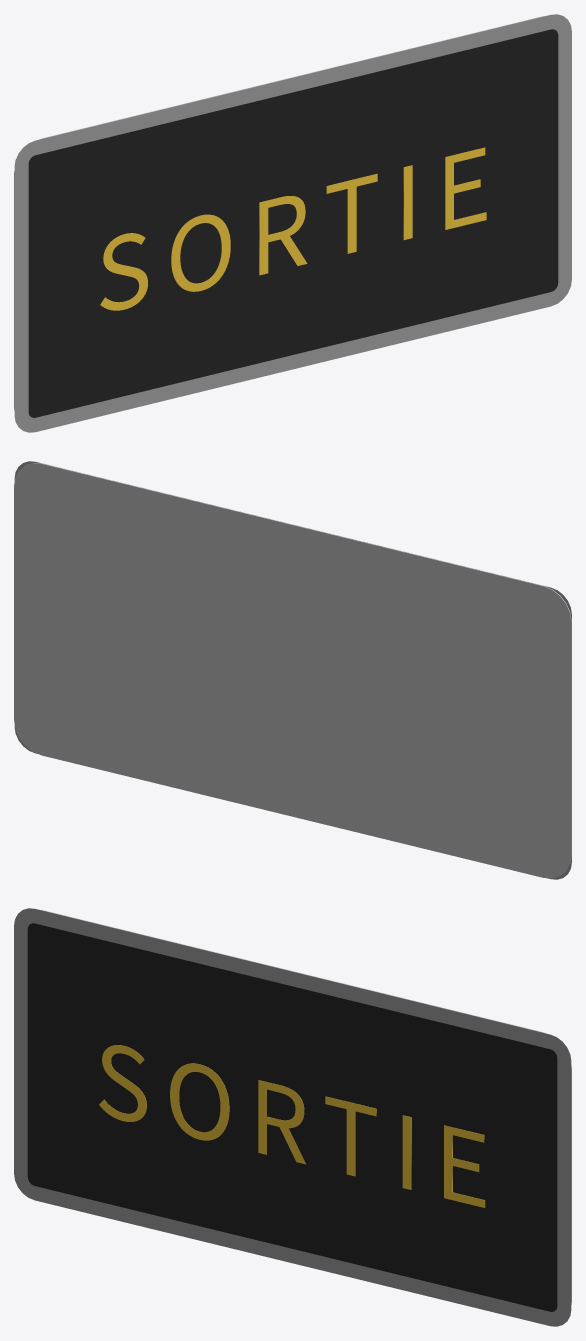
Rendered from CAR_SORTIE.glb.
The picture shows the model from 3 angles, top to bottom: view 1: azimuth 30°, elevation 25°; view 2: azimuth 150°, elevation 25°; view 3: azimuth 330°, elevation 25°; orthographic projection.
Visible parts, largest first — view 1: CAR_SORTIE_fond01, CAR_SORTIE_cadre00, CAR_SORTIE_txt02, CAR_SORTIE_dos; view 2: CAR_SORTIE_dos, CAR_SORTIE_cadre00; view 3: CAR_SORTIE_fond01, CAR_SORTIE_cadre00, CAR_SORTIE_txt02, CAR_SORTIE_dos.
Part boxes in pixels (left/top/right/bottom): CAR_SORTIE_fond01: left=28, top=29, right=558, bottom=417; CAR_SORTIE_cadre00: left=14, top=14, right=571, bottom=432; CAR_SORTIE_txt02: left=100, top=147, right=486, bottom=310; CAR_SORTIE_dos: left=14, top=16, right=544, bottom=410; CAR_SORTIE_dos: left=14, top=463, right=571, bottom=878; CAR_SORTIE_cadre00: left=14, top=461, right=571, bottom=879; CAR_SORTIE_fond01: left=27, top=923, right=557, bottom=1311; CAR_SORTIE_cadre00: left=14, top=908, right=571, bottom=1326; CAR_SORTIE_txt02: left=99, top=1045, right=485, bottom=1207; CAR_SORTIE_dos: left=41, top=910, right=571, bottom=1304.
Size of the model in its own units: 0.8 by 0.4 by 0.0025.
